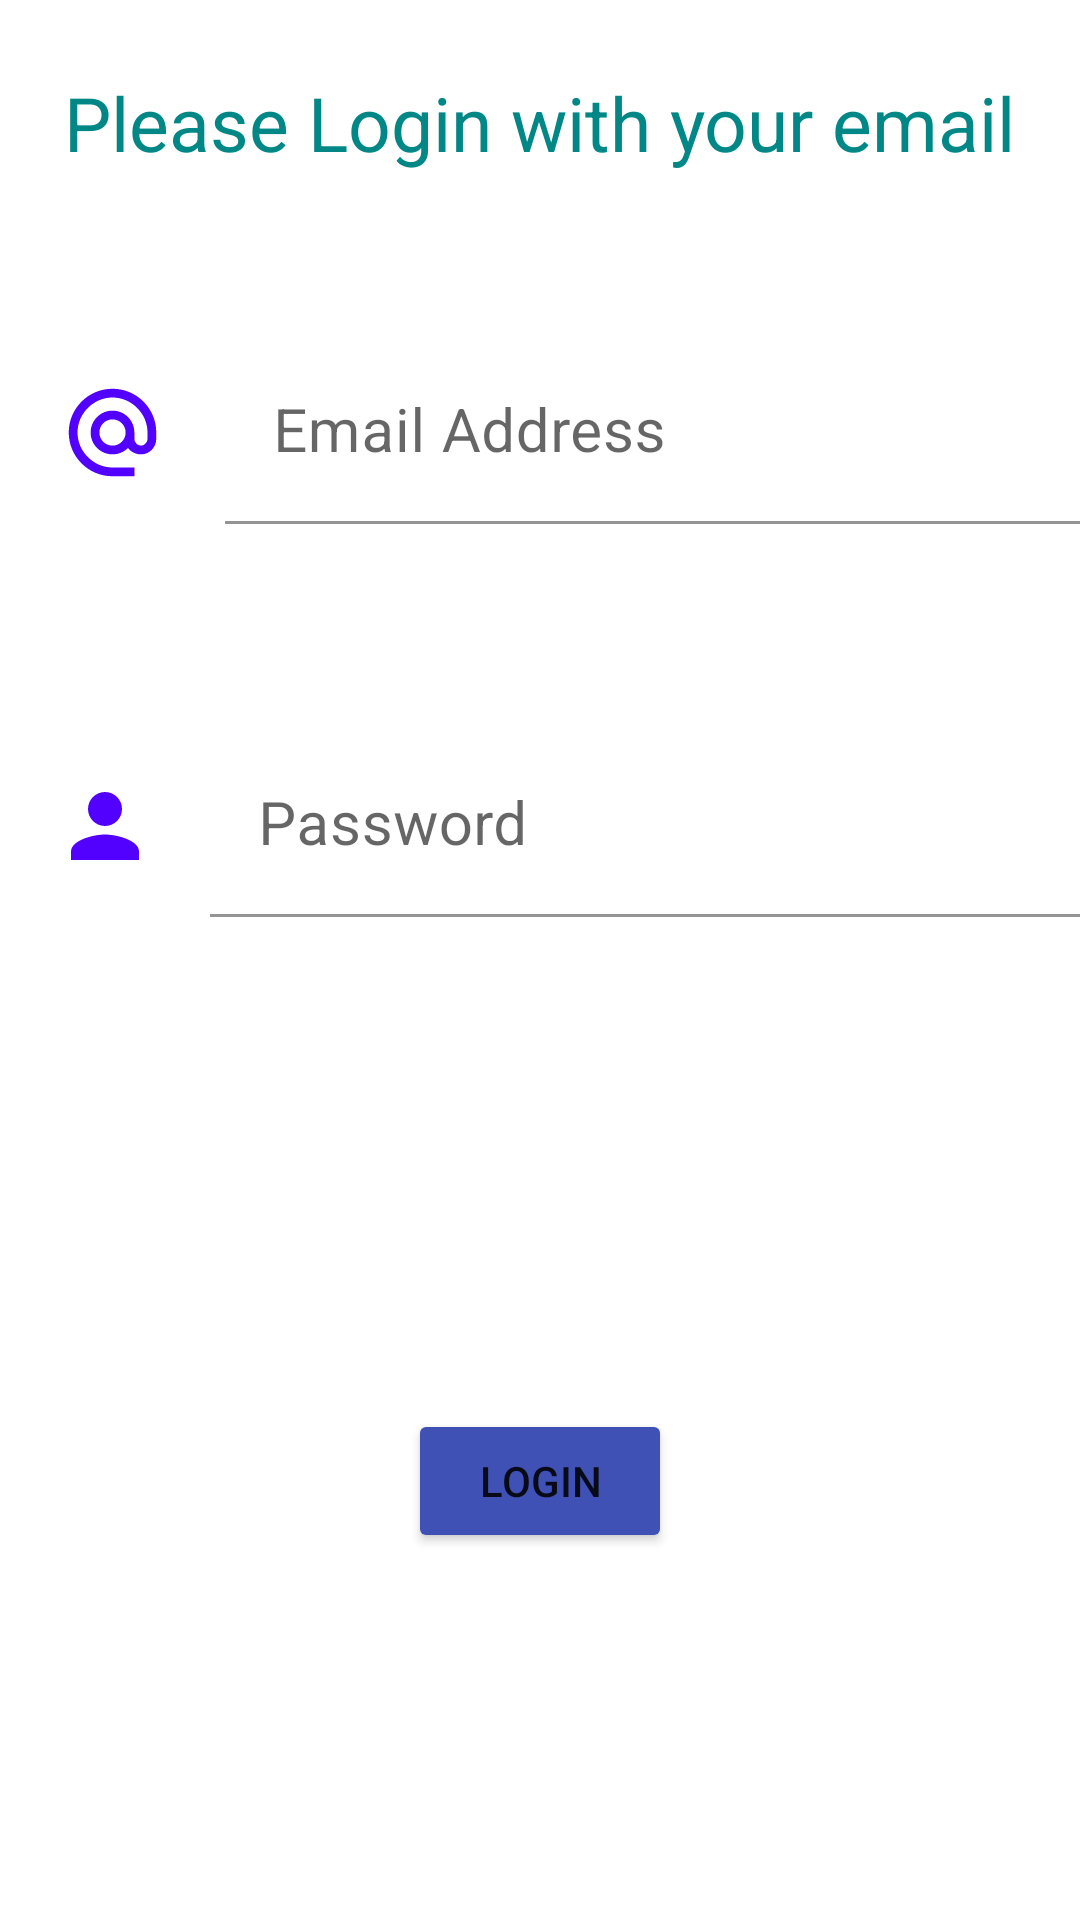

Icon bounding boxes for this 1080w x 1920h phone screenshot, format (x1,y1,x2,y2):
alternate email: (68,388,157,477)
person: (71,792,139,860)
